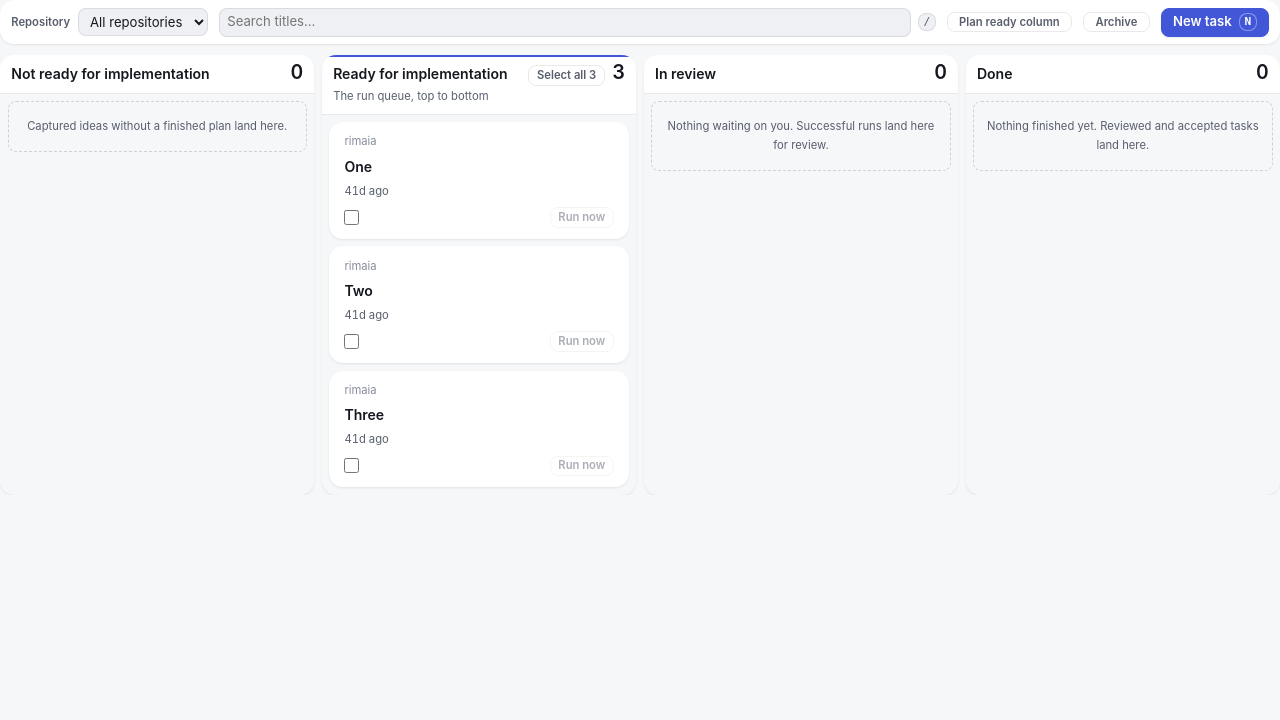
Test: Board › shift-clicking the card body extends the range, without opening it
Click the checkbox named "Select \"One\"".
click(352, 217)  # box [344, 210, 359, 225]
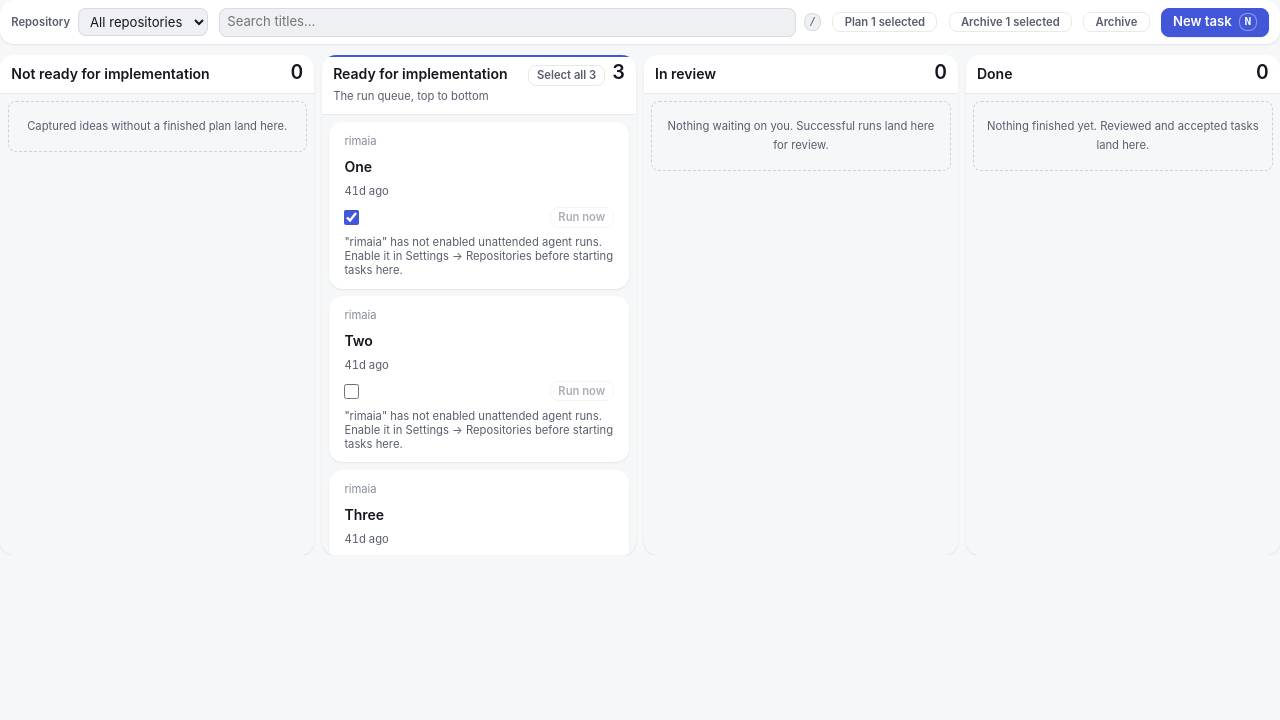
Click the button "Three".
click(361, 489)  # box [329, 470, 629, 636]
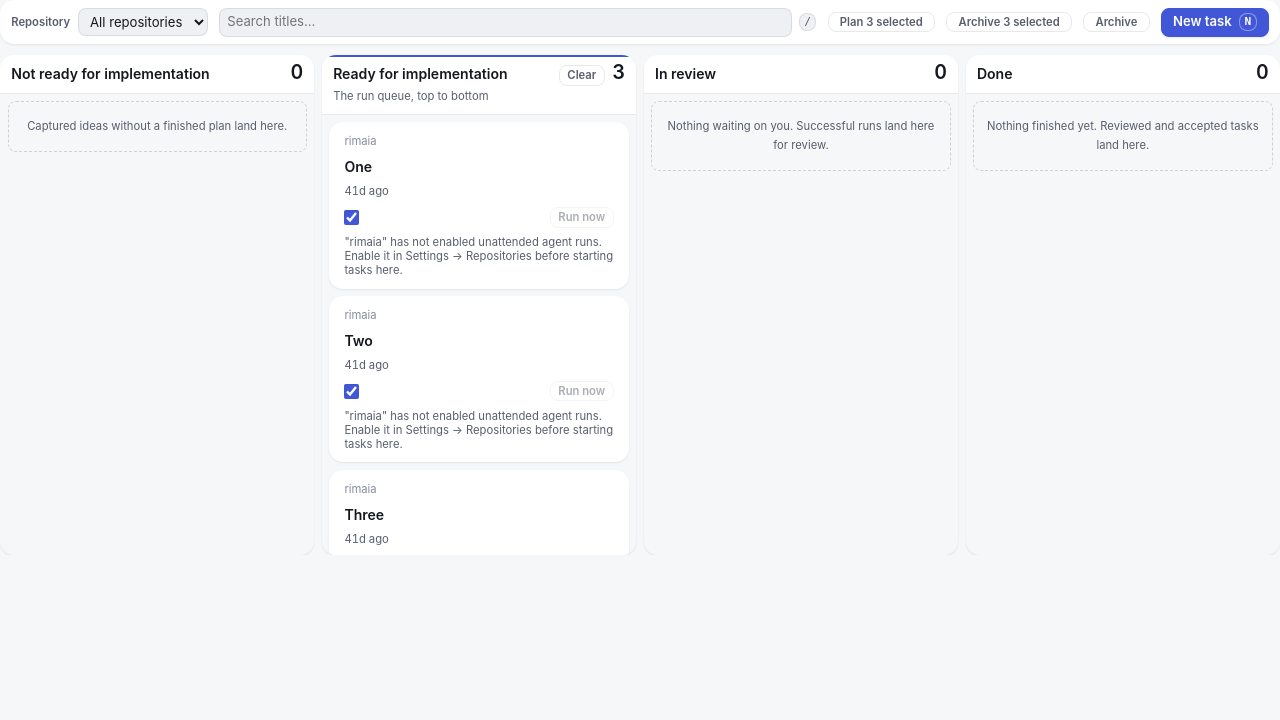
Now the button "Archive 3 selected" is shown, box [946, 12, 1072, 32]
